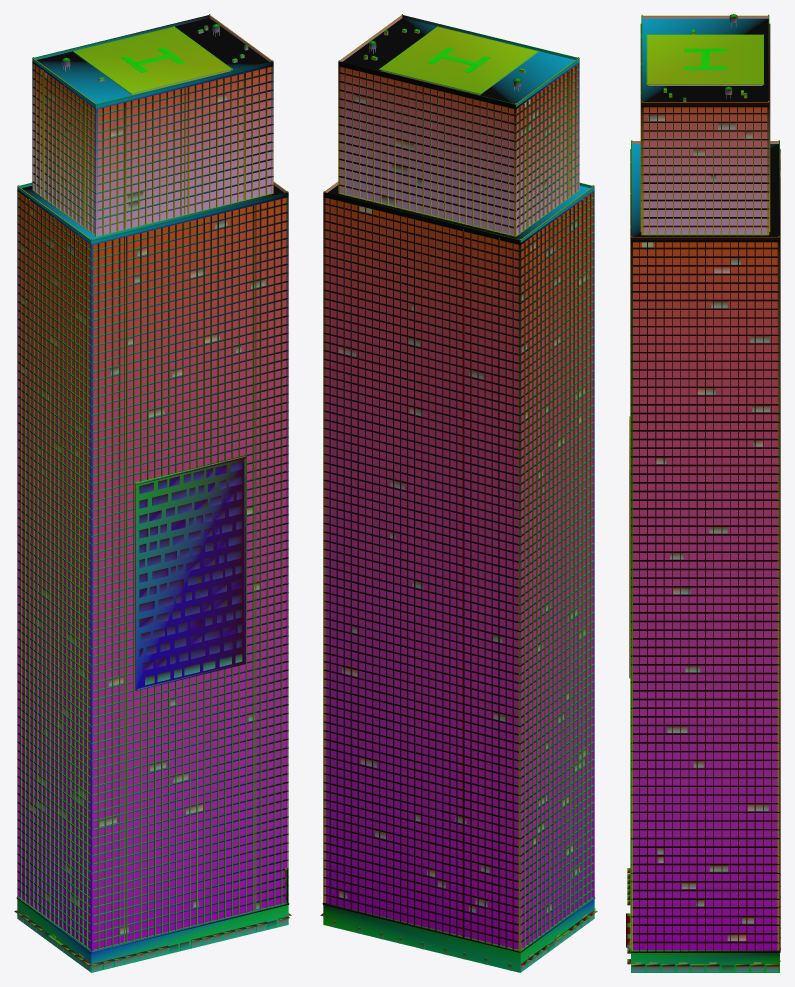
Rendered from Tower_Monolith_V5.fbx.
The picture shows the model from 3 angles, left to right: view 1: azimuth 30°, elevation 25°; view 2: azimuth 150°, elevation 25°; view 3: azimuth 270°, elevation 25°; orthographic projection.
Visible parts, largest first — view 1: Tower_Monolith_V5_LOD0; view 2: Tower_Monolith_V5_LOD0; view 3: Tower_Monolith_V5_LOD0.
Boxes of the visible parts, x1,y1,x2,y2 form: Tower_Monolith_V5_LOD0: (14,14,291,972); Tower_Monolith_V5_LOD0: (320,14,597,972); Tower_Monolith_V5_LOD0: (626,14,780,972).
Size of what is drawn, in the model's own units: 88.8 by 363 by 58.28.
